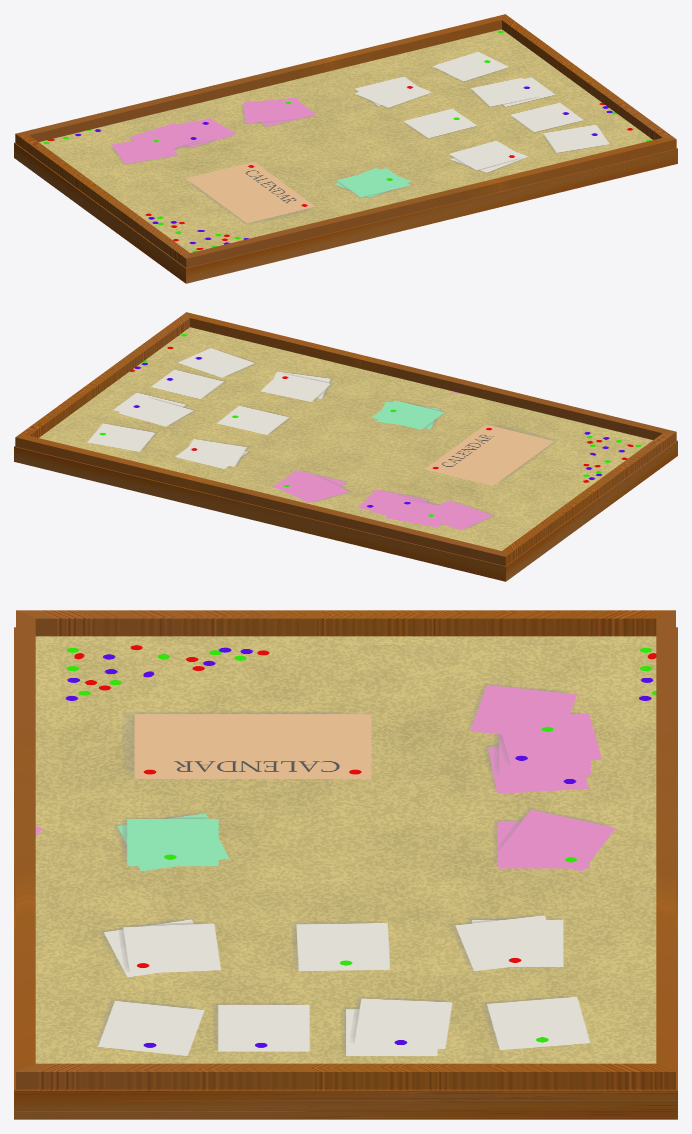
The model's file is noticeboard.FBX.
3 views of the same model, one above another, from view 1: azimuth 30°, elevation 25°; view 2: azimuth 150°, elevation 25°; view 3: azimuth 270°, elevation 25° (orthographic). The views are drawn at different scales.
Visible parts, largest first — view 1: Box007; view 2: Box007; view 3: Box007.
Part boxes in pixels (x1=…): Box007: x1=14, y1=14, x2=677, y2=283; Box007: x1=14, y1=312, x2=677, y2=581; Box007: x1=14, y1=610, x2=677, y2=1119.
Bounding box in the file's own units: 54.8 × 2.59 × 33.2.
